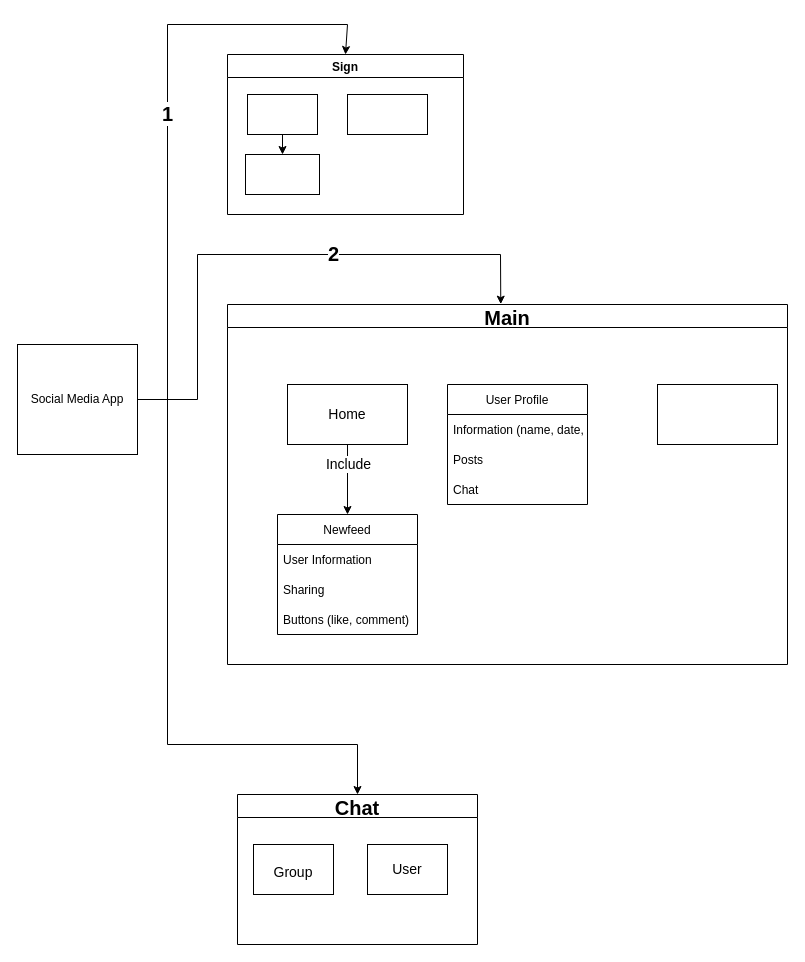
This 805x962 diagram has some shape labels left out. Each missing label, with the box of its shape:
Forgot Password: (244, 154, 320, 194)
Search: (656, 384, 778, 444)
Sign In: (246, 94, 318, 134)
Sign Up: (346, 94, 428, 134)
